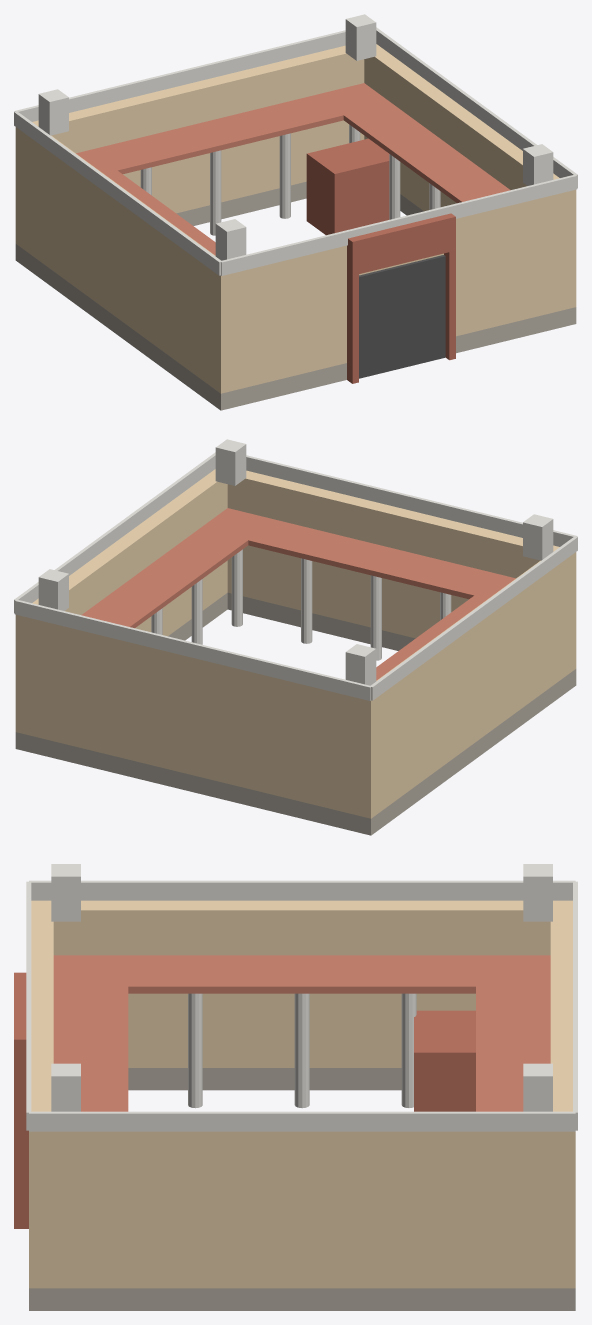
Rendered from Caravansary_India.fbx.
3 views of the same model, one above another, from view 1: azimuth 30°, elevation 25°; view 2: azimuth 150°, elevation 25°; view 3: azimuth 270°, elevation 25° (orthographic). The views are drawn at different scales.
Visible parts, largest first — view 1: Caravansary_India_Mesh; view 2: Caravansary_India_Mesh; view 3: Caravansary_India_Mesh.
Part boxes in pixels (box(x1,y1,x2,y2)): Caravansary_India_Mesh: box(14, 14, 577, 410); Caravansary_India_Mesh: box(14, 439, 577, 835); Caravansary_India_Mesh: box(14, 864, 577, 1310).
Bounding box in the file's own units: 11.1 × 5 × 11.35.
